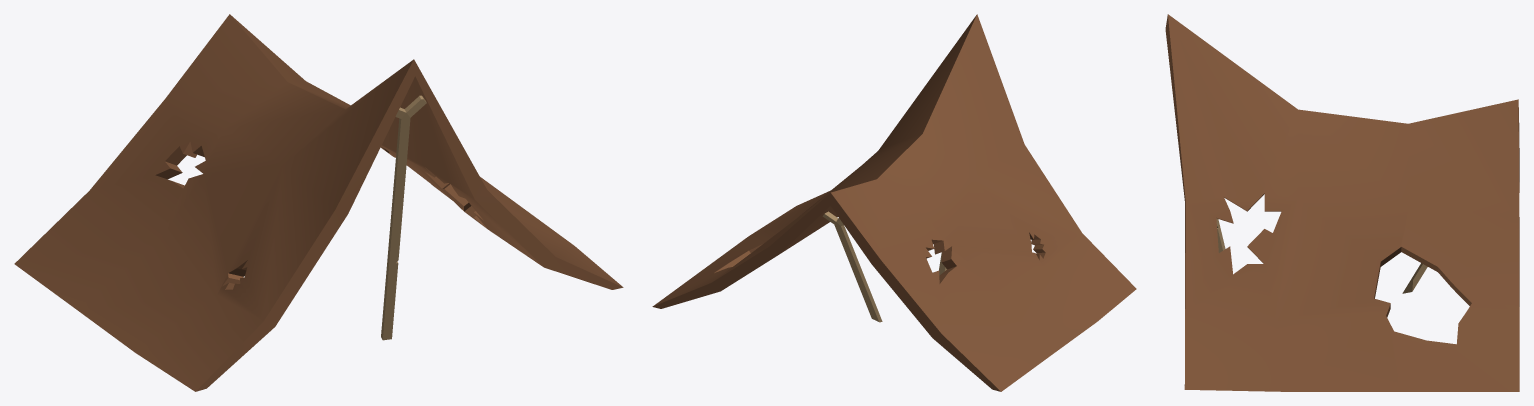
Rendered from Ruined Tent 1.fbx.
The picture shows the model from 3 angles, left to right: view 1: azimuth 30°, elevation 25°; view 2: azimuth 150°, elevation 25°; view 3: azimuth 270°, elevation 25°; orthographic projection. The views are drawn at different scales.
Visible parts, largest first — view 1: Tent, Wooden Pole; view 2: Tent, Wooden Pole; view 3: Tent, Wooden Pole.
Part boxes in pixels (bbox=[...]): Tent: bbox=[14, 14, 623, 391]; Wooden Pole: bbox=[381, 95, 426, 340]; Tent: bbox=[652, 14, 1136, 391]; Wooden Pole: bbox=[822, 211, 946, 322]; Tent: bbox=[1165, 14, 1519, 391]; Wooden Pole: bbox=[1216, 218, 1427, 293].
Size of the model in its own units: 586 by 392 by 430.
